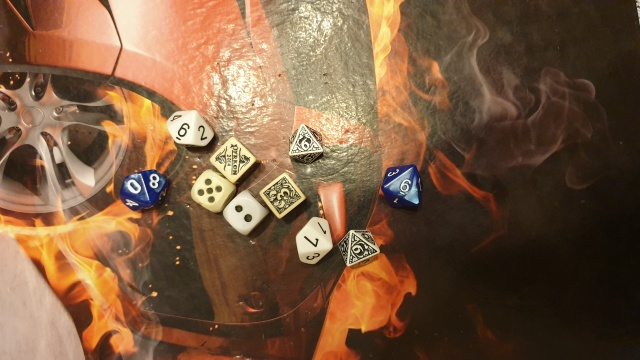d10-10: (114, 168, 170, 213)
d10-6: (382, 163, 426, 211), (164, 105, 210, 149)
d10-7: (292, 214, 335, 266)
d6-2: (226, 188, 265, 238)
d6-5: (186, 172, 232, 210)
d6p-1: (207, 136, 257, 183)
d6p-3: (260, 171, 306, 217)
d8p-6: (284, 122, 327, 166), (338, 227, 379, 270)
